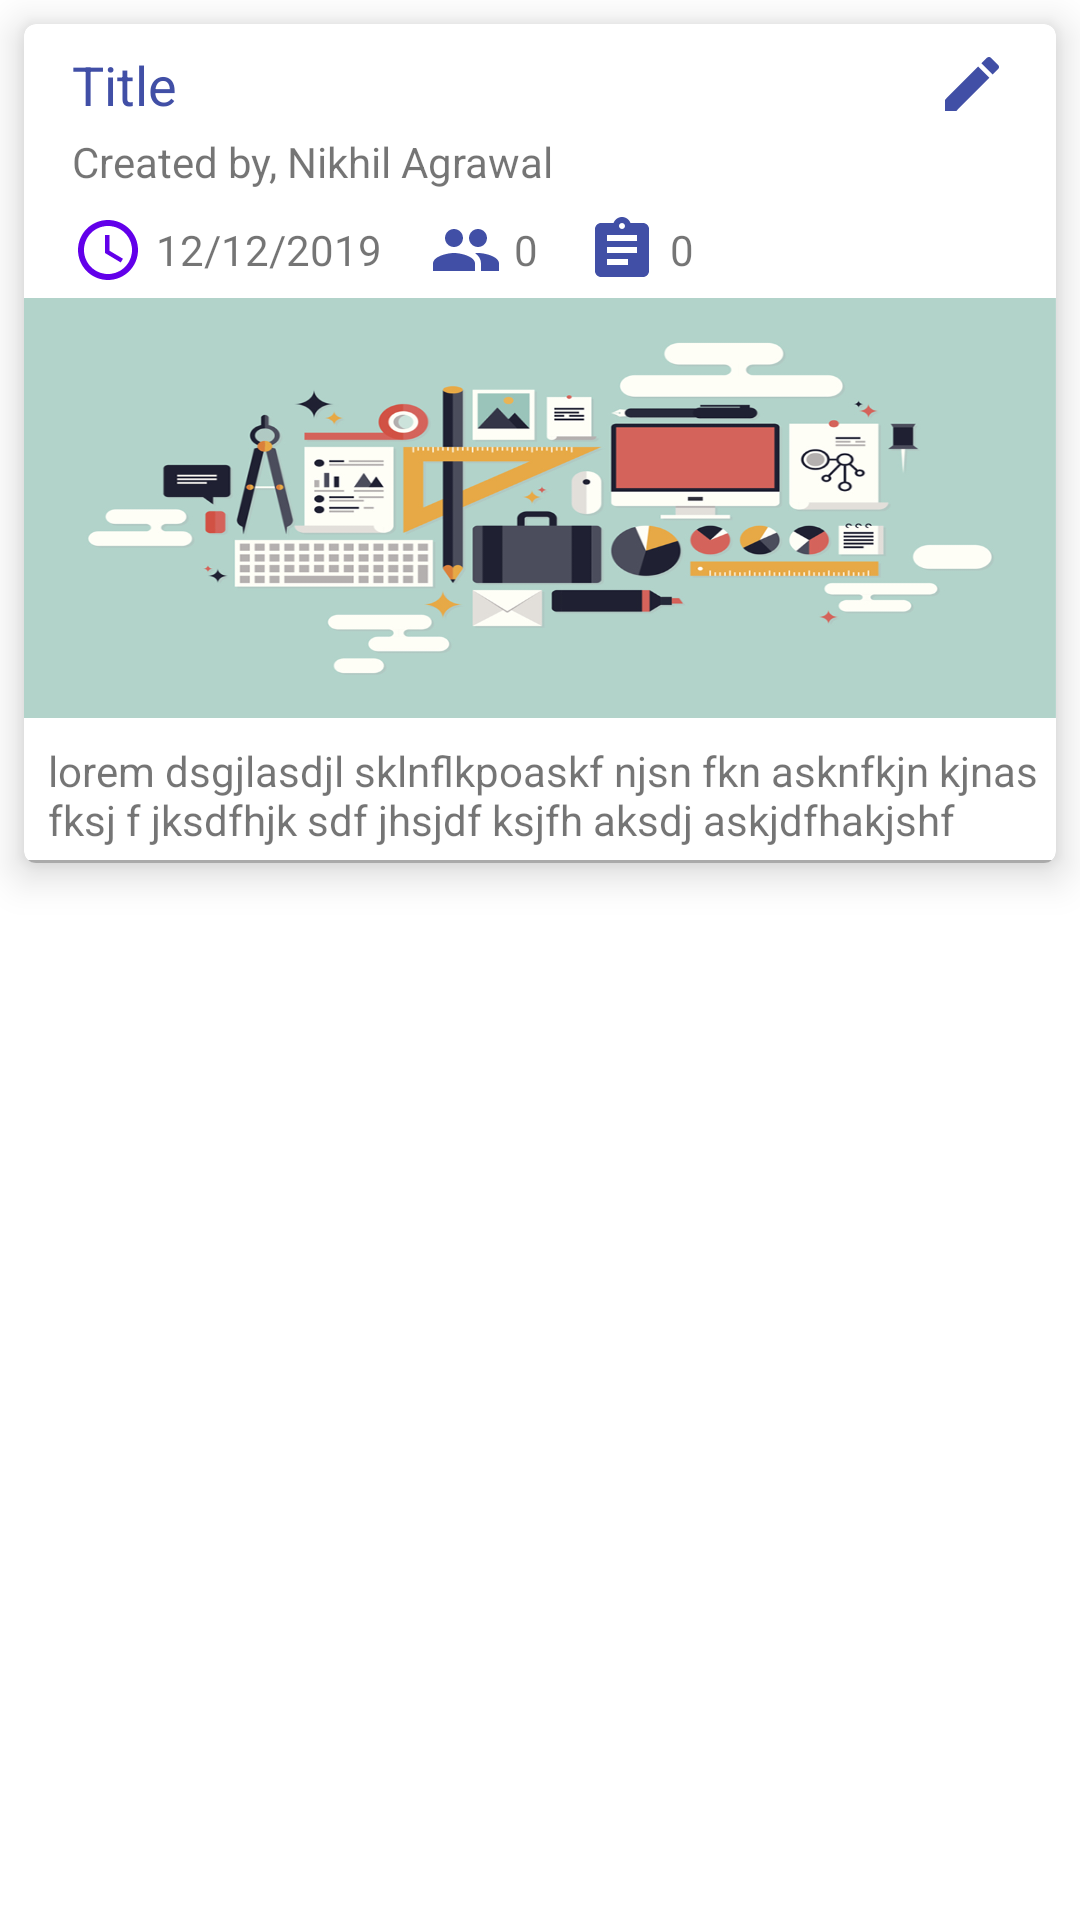

Icon bounding boxes for this 1080 × 1920 phone screenshot, format (x1, y1, x2, y2):
assignment: (595, 217, 649, 277)
mode edit: (945, 57, 999, 111)
people: (433, 229, 499, 271)
schedule: (78, 220, 138, 280)
